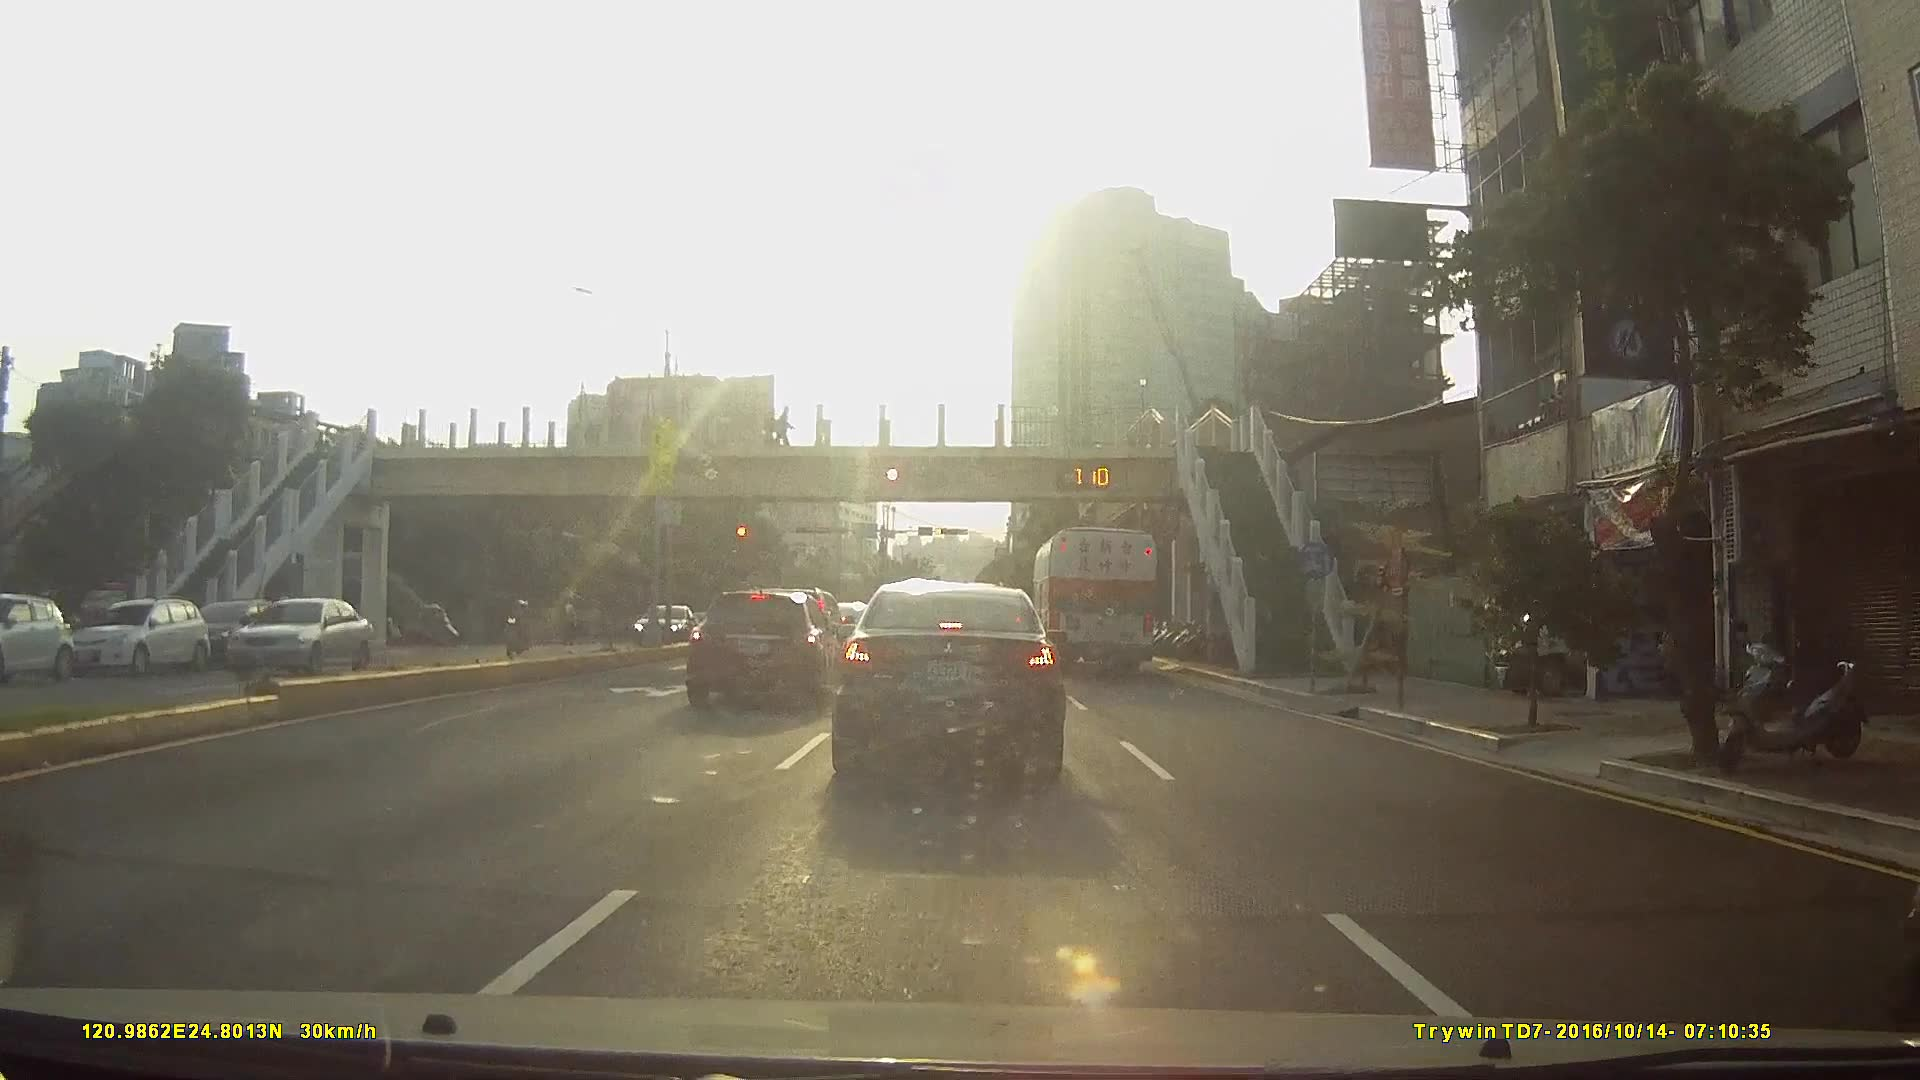pedestrian: (774, 402, 794, 448)
rider: (501, 597, 533, 659)
vehicle: (827, 581, 1068, 785), (679, 586, 848, 715), (1030, 526, 1158, 678), (208, 596, 367, 681), (62, 596, 203, 677), (184, 598, 291, 666), (0, 594, 71, 684), (626, 603, 695, 648)
